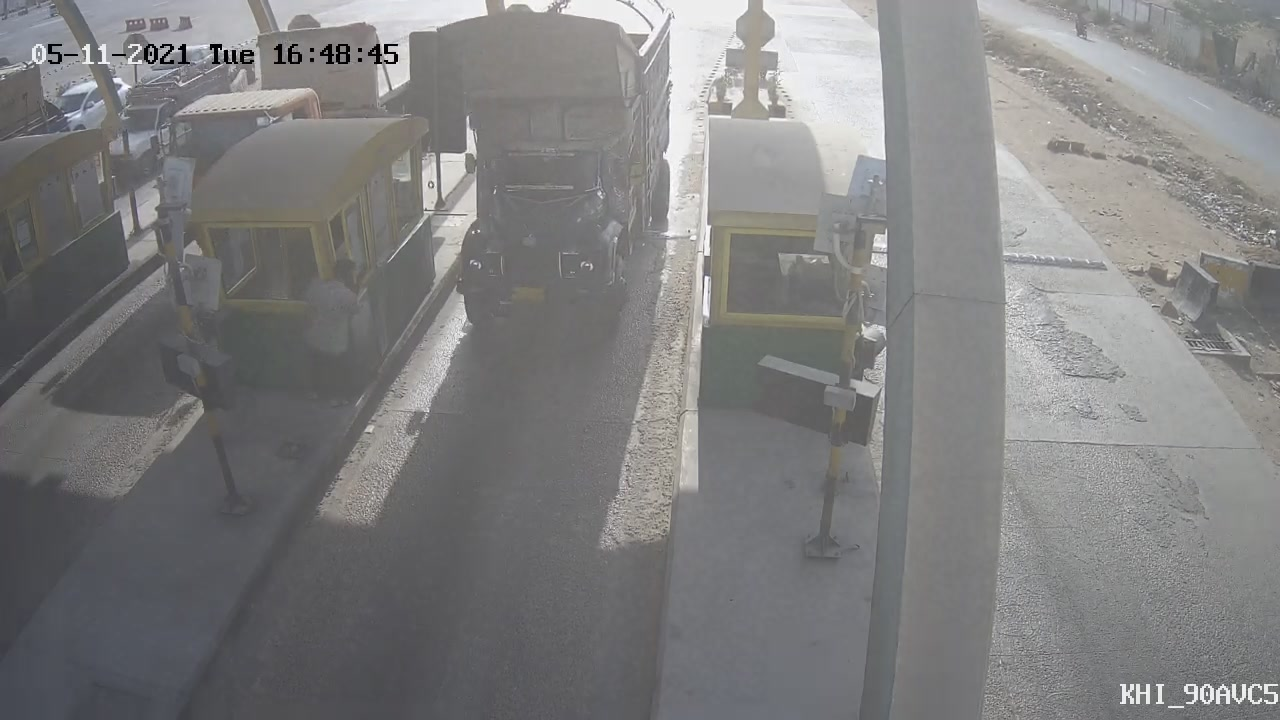F5: (418, 1, 703, 343)
